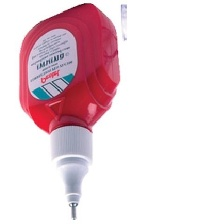correction_fluid: (13, 1, 123, 223)
